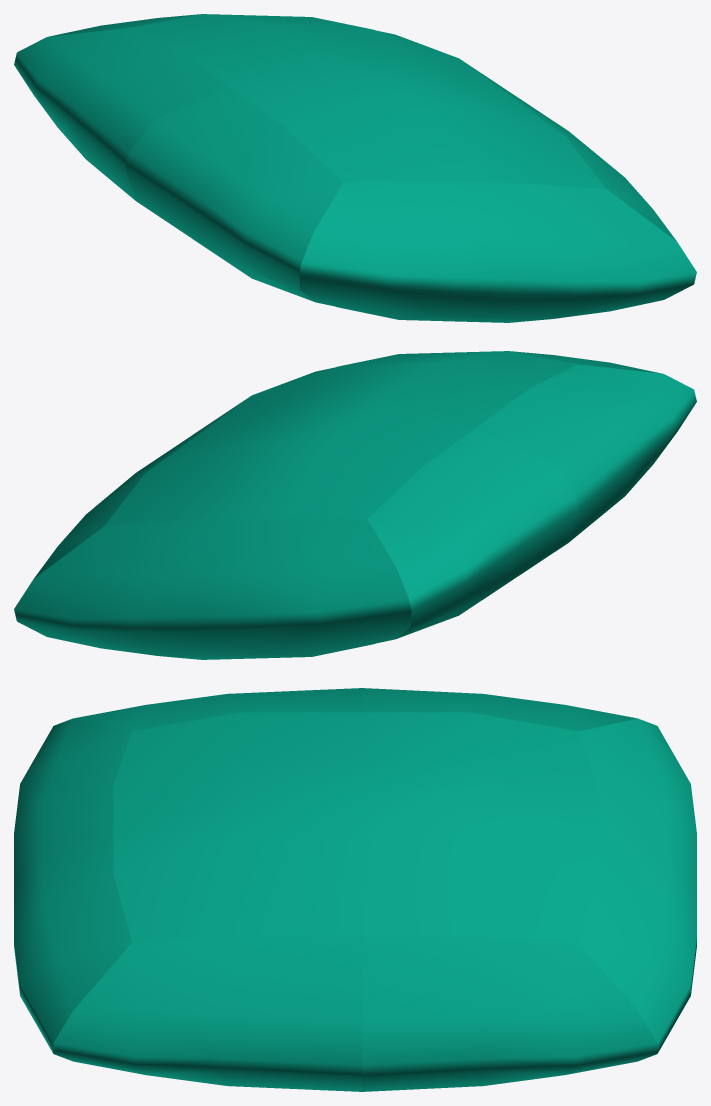
The model's file is Pillow_02.fbx.
3 renders of one model, top to bottom at view 1: azimuth 30°, elevation 25°; view 2: azimuth 150°, elevation 25°; view 3: azimuth 270°, elevation 25°, orthographic. The views are drawn at different scales.
Parts seen in each view (by area): view 1: Pillow_02; view 2: Pillow_02; view 3: Pillow_02.
Boxes of the visible parts, x1,y1,x2,y2 form: Pillow_02: [14, 14, 696, 322]; Pillow_02: [14, 351, 696, 659]; Pillow_02: [14, 688, 696, 1091].
Bounding box in the file's own units: 335 × 153 × 413.
